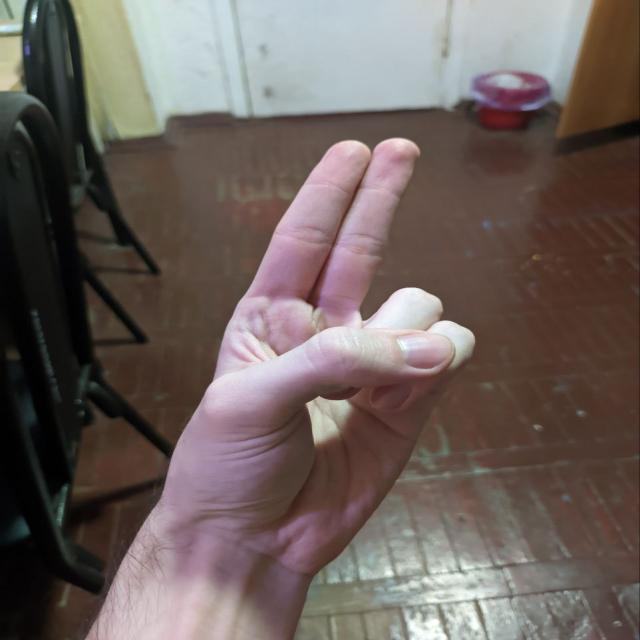ts: (180, 127, 488, 540)
